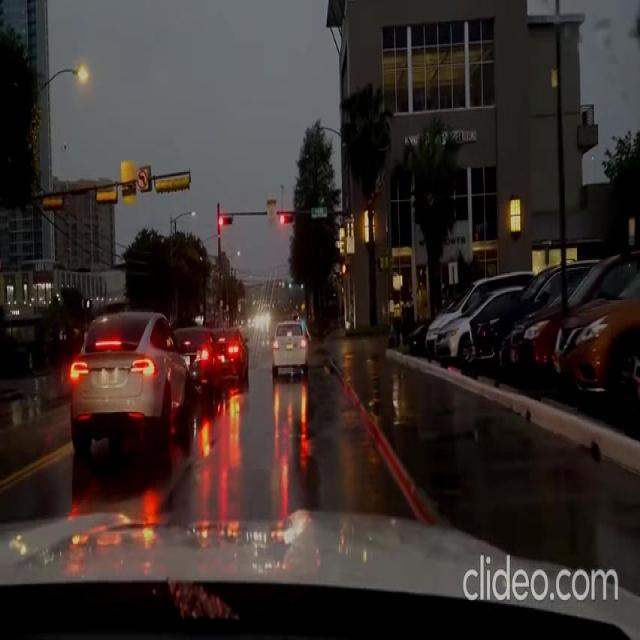Car: (66, 310, 195, 458), (506, 251, 624, 385), (552, 247, 639, 417), (435, 282, 531, 370), (172, 323, 221, 405), (271, 320, 308, 380), (213, 325, 246, 387)
